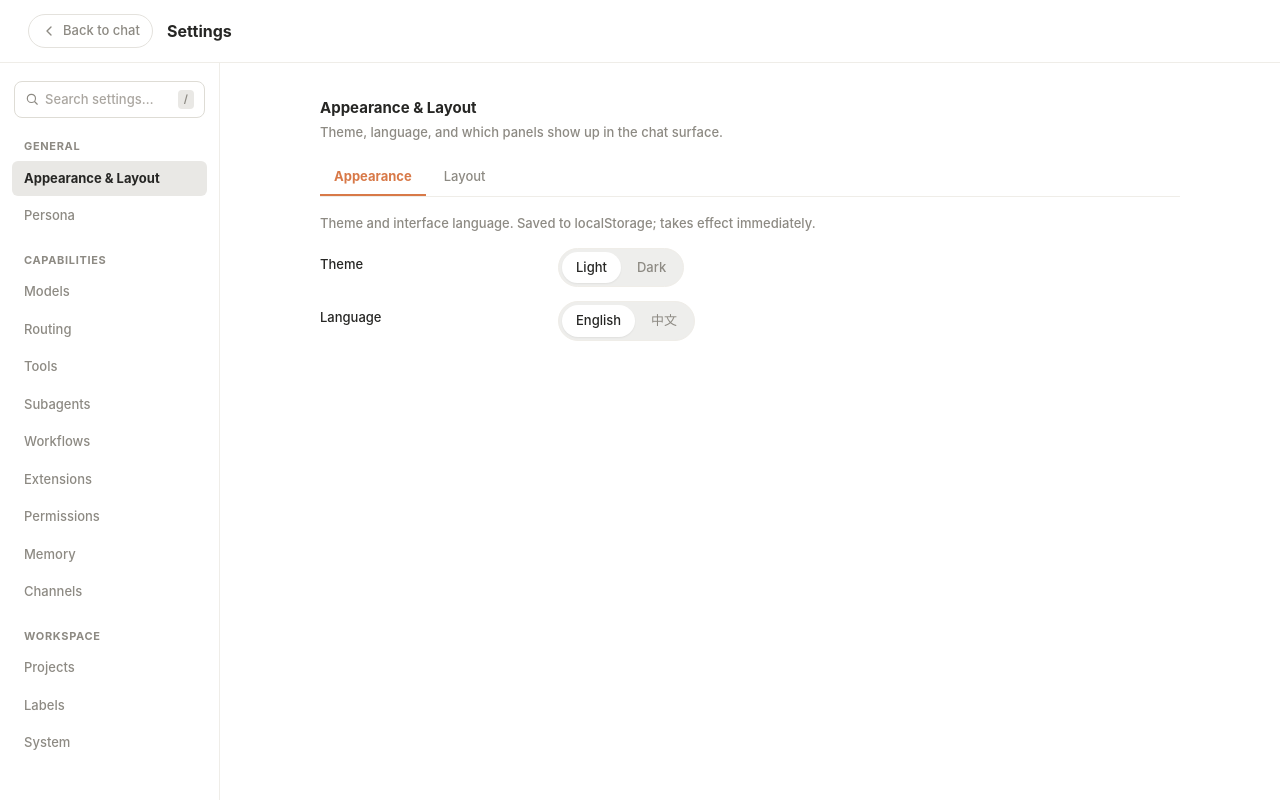
Test: SettingsPage › switches settings sections without rendering every section
What coordinates should you click on to do the following:
click the link "Persona"
I would click on:
 (50, 215)
Its box is x1=24 y1=207 x2=75 y2=223.
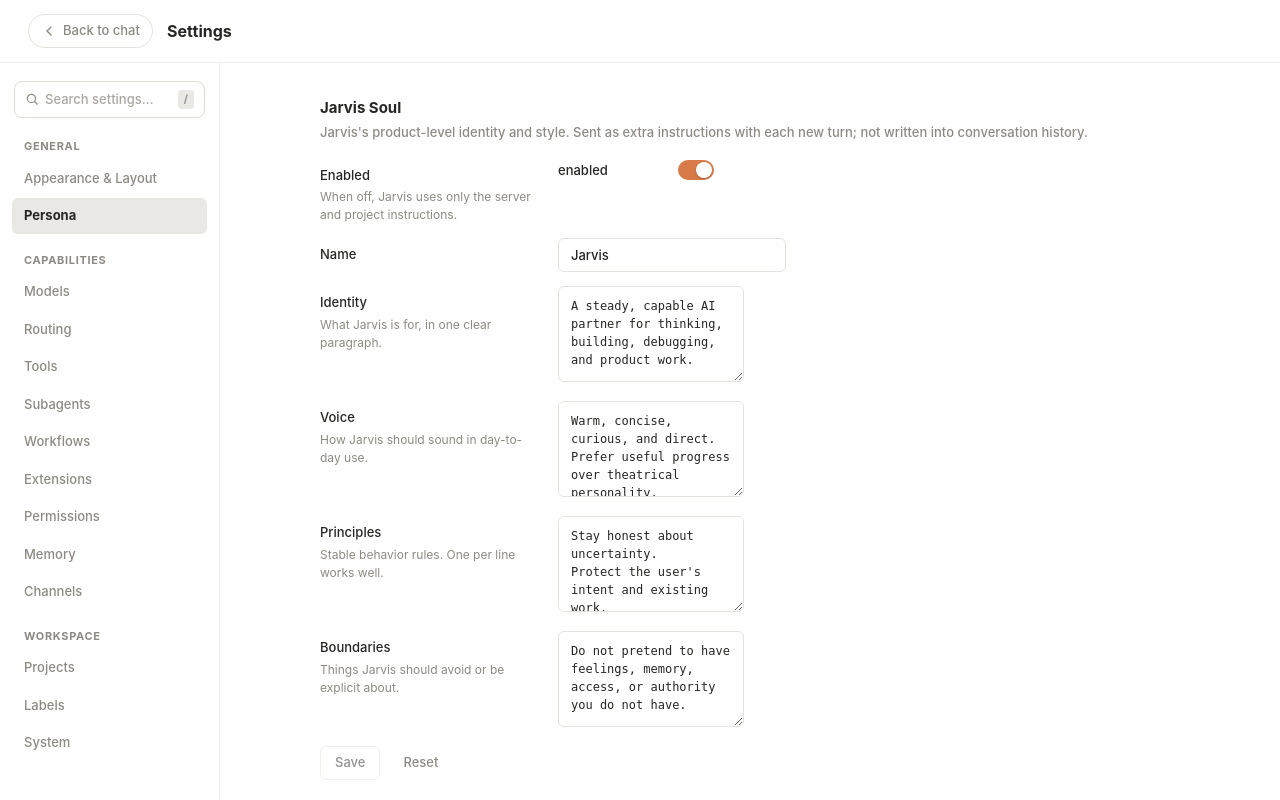
expect the heading "Jarvis Soul" is shown: met, box x1=320 y1=98 x2=401 y2=116
